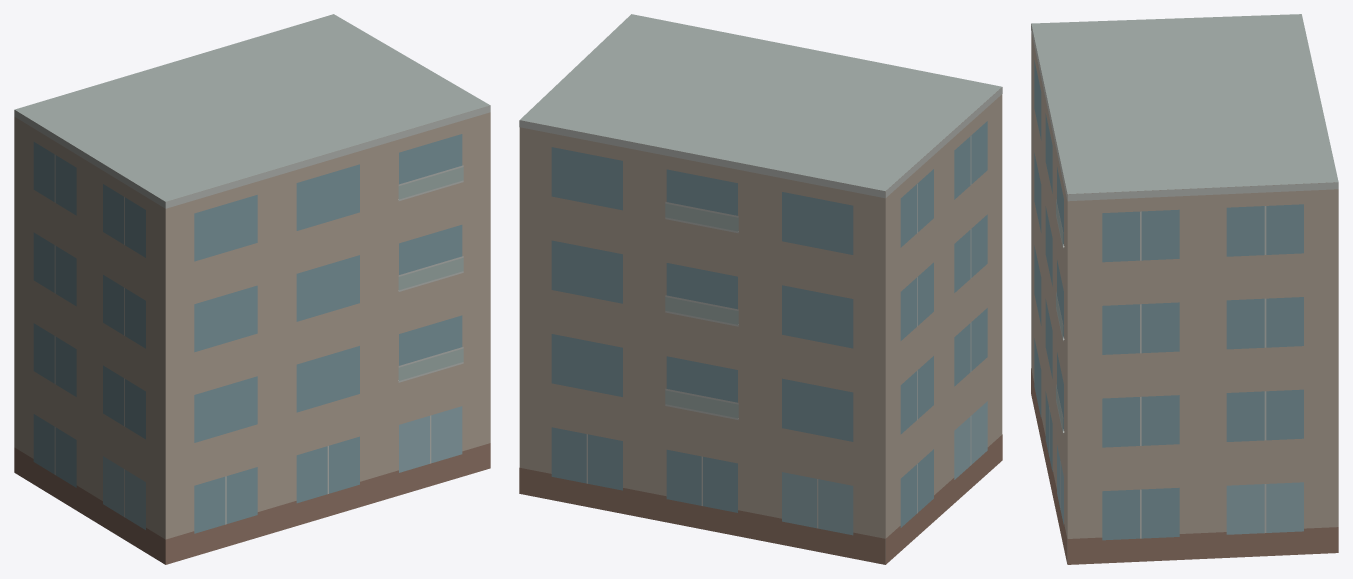
The model's file is survey-upis-32654915.glb.
The picture shows the model from 3 angles, left to right: view 1: azimuth 30°, elevation 25°; view 2: azimuth 150°, elevation 25°; view 3: azimuth 270°, elevation 25°; orthographic projection. The views are drawn at different scales.
Visible parts, largest first — view 1: survey-upis-32654915.tmp; view 2: survey-upis-32654915.tmp; view 3: survey-upis-32654915.tmp.
Boxes of the visible parts, x1,y1,x2,y2 form: survey-upis-32654915.tmp: (14,14,490,564); survey-upis-32654915.tmp: (519,14,1002,564); survey-upis-32654915.tmp: (1031,14,1338,564).
Size of the model in its own units: 13.35 by 12.8 by 9.63.
